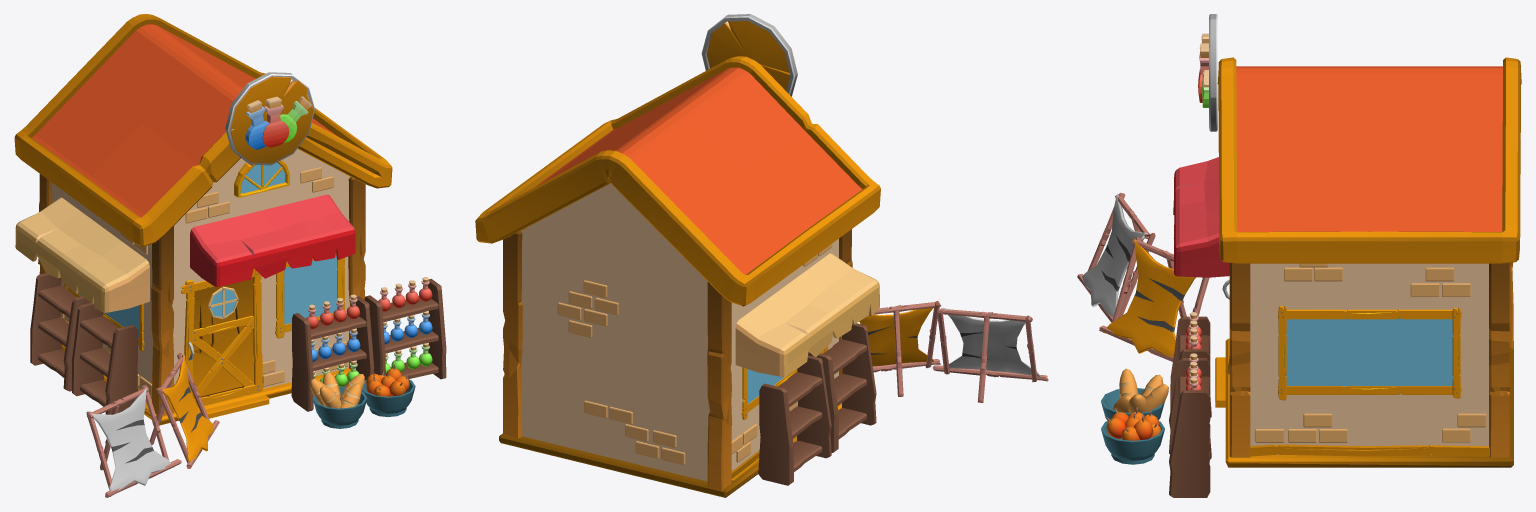
The model's file is Store_lvl1_02.fbx.
3 renders of one model, left to right at view 1: azimuth 30°, elevation 25°; view 2: azimuth 150°, elevation 25°; view 3: azimuth 270°, elevation 25°, orthographic. The views are drawn at different scales.
Parts seen in each view (by area): view 1: Store, Potion_Shelf, Potion_Shelf1, Tiger_Fur_White, Tiger_Fur_Yellow, Bread_Basket, Apple_Basket; view 2: Store, Tiger_Fur_White, Tiger_Fur_Yellow; view 3: Store, Tiger_Fur_Yellow, Potion_Shelf1, Tiger_Fur_White, Apple_Basket, Bread_Basket, Potion_Shelf.
Part boxes in pixels (left/top/right/bottom): Store: left=14, top=14, right=392, bottom=425; Potion_Shelf: left=291, top=294, right=374, bottom=411; Potion_Shelf1: left=364, top=277, right=446, bottom=379; Tiger_Fur_White: left=86, top=384, right=181, bottom=497; Tiger_Fur_Yellow: left=149, top=353, right=219, bottom=468; Bread_Basket: left=310, top=372, right=367, bottom=428; Apple_Basket: left=362, top=365, right=415, bottom=417; Store: left=475, top=14, right=880, bottom=497; Tiger_Fur_White: left=932, top=307, right=1048, bottom=402; Tiger_Fur_Yellow: left=859, top=301, right=940, bottom=396; Store: left=1173, top=14, right=1521, bottom=467; Tiger_Fur_Yellow: left=1099, top=237, right=1209, bottom=361; Potion_Shelf1: left=1169, top=353, right=1211, bottom=497; Tiger_Fur_White: left=1077, top=192, right=1155, bottom=322; Apple_Basket: left=1101, top=407, right=1164, bottom=464; Bread_Basket: left=1101, top=368, right=1168, bottom=420; Potion_Shelf: left=1169, top=312, right=1211, bottom=453.
Size of the model in its own units: 50.11 by 41.76 by 43.19.
Materials: 1 (1 with a texture image).
